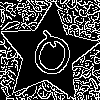Q: (23, 28, 78, 89)
